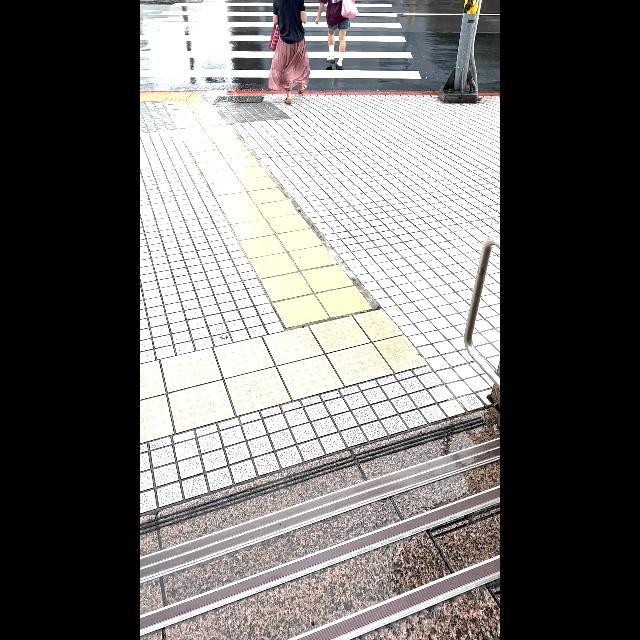sidewalk: (140, 0, 428, 94)
